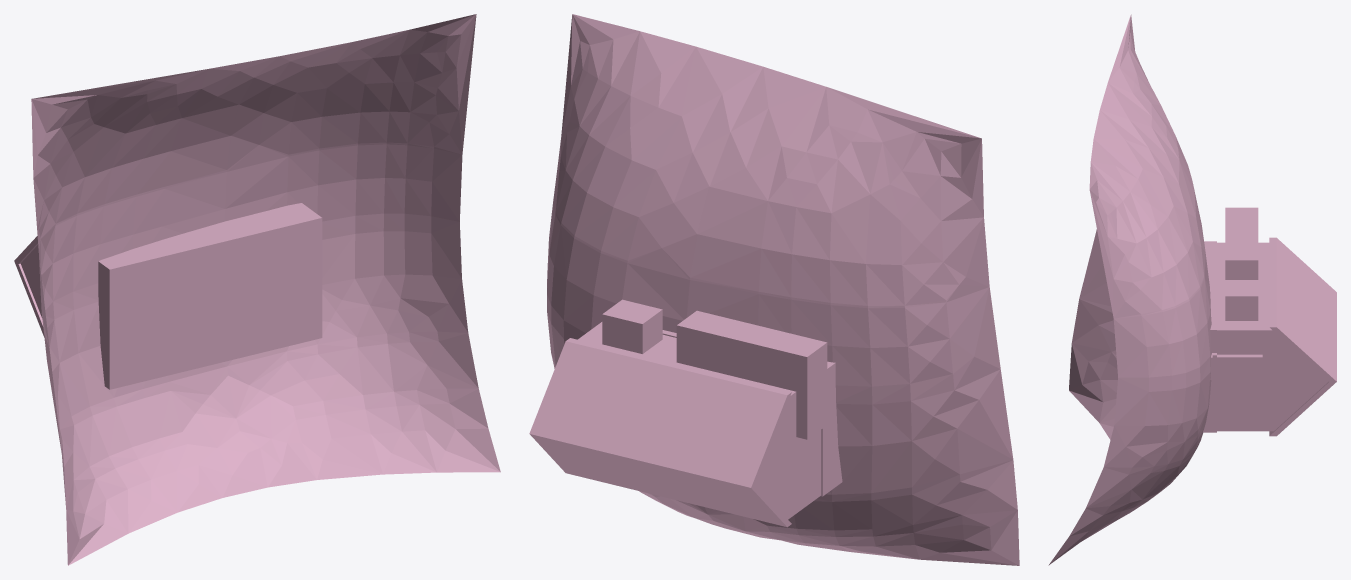
The model's file is IfcOpenHouse_IFC4.glb.
3 views of the same model, side by side, from view 1: azimuth 30°, elevation 25°; view 2: azimuth 150°, elevation 25°; view 3: azimuth 270°, elevation 25° (orthographic). The views are drawn at different scales.
Size of the model in its own units: 20 by 20 by 13.91.
